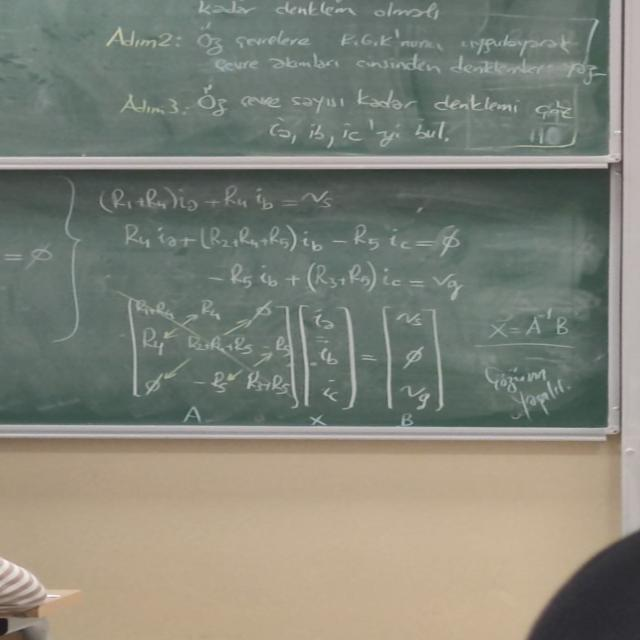math: (115, 296, 457, 426), (110, 219, 477, 257), (208, 259, 471, 302), (90, 177, 350, 217), (478, 360, 578, 419), (474, 307, 580, 345)
text: (97, 22, 604, 84), (105, 88, 588, 148), (190, 0, 455, 28)
